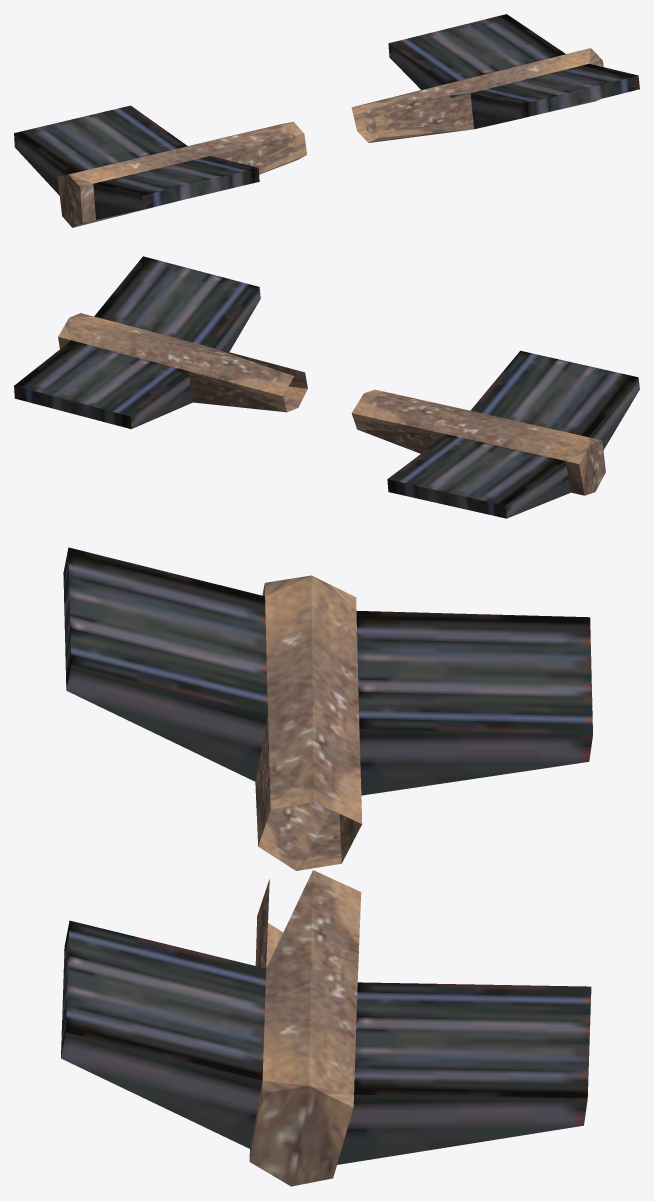
File: orp_hover_speederbike.glb
The picture shows the model from 3 angles, top to bottom: view 1: azimuth 30°, elevation 25°; view 2: azimuth 150°, elevation 25°; view 3: azimuth 270°, elevation 25°; orthographic projection. The views are drawn at different scales.
Parts seen in each view (by area): view 1: polymsh_detached_1, polymsh_detached_0; view 2: polymsh_detached_1, polymsh_detached_0; view 3: polymsh_detached_0, polymsh_detached_1.
Part boxes in pixels (x1,y1,x2,y2): polymsh_detached_1: (351, 14, 639, 142); polymsh_detached_0: (14, 105, 306, 227); polymsh_detached_1: (14, 256, 307, 429); polymsh_detached_0: (351, 350, 639, 518); polymsh_detached_0: (63, 547, 592, 870); polymsh_detached_1: (61, 870, 591, 1186).
Size of the model in its own units: 0.7376 by 0.0955 by 0.325.
Materials: 2 (2 with a texture image).
